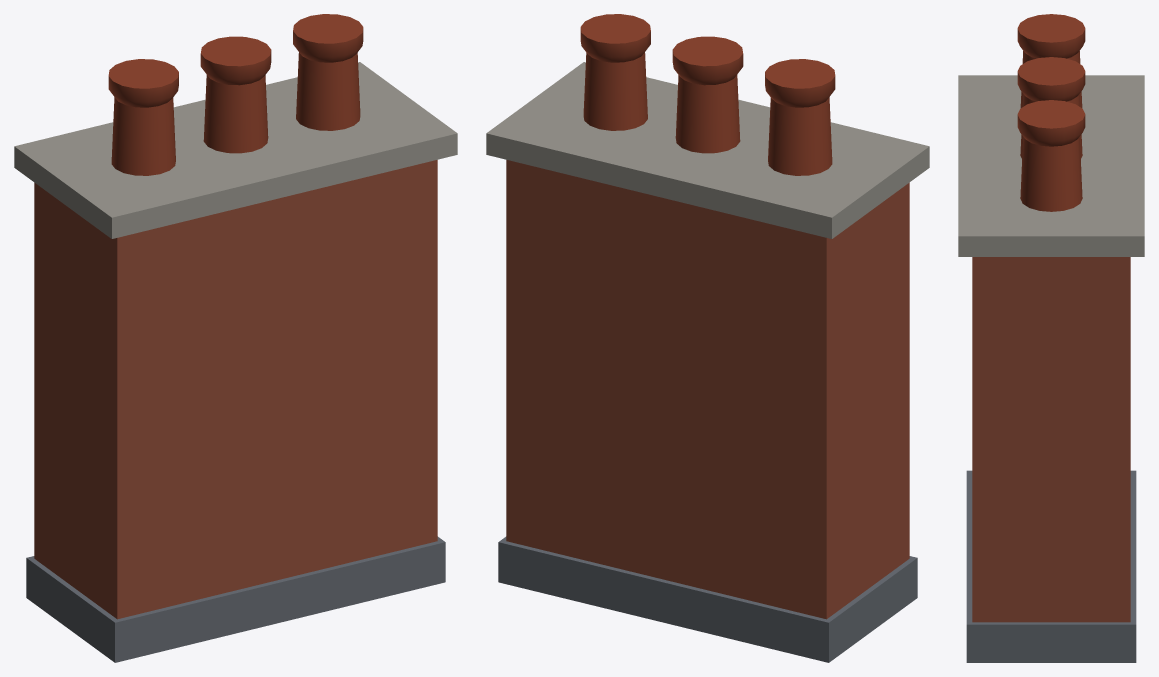
File: roof.chimney.triple.glb
The picture shows the model from 3 angles, left to right: view 1: azimuth 30°, elevation 25°; view 2: azimuth 150°, elevation 25°; view 3: azimuth 270°, elevation 25°; orthographic projection. The views are drawn at different scales.
Parts seen in each view (by area): view 1: main__brick, main__concrete, main__clay_tile, main__lead; view 2: main__brick, main__concrete, main__clay_tile, main__lead; view 3: main__brick, main__concrete, main__clay_tile, main__lead.
Boxes of the visible parts, x1,y1,x2,y2 form: main__brick: (34, 160, 437, 619); main__concrete: (14, 62, 457, 238); main__clay_tile: (108, 14, 363, 175); main__lead: (26, 536, 445, 662); main__brick: (506, 160, 909, 619); main__concrete: (486, 62, 929, 238); main__clay_tile: (580, 14, 835, 175); main__lead: (498, 536, 917, 662); main__brick: (972, 257, 1130, 622); main__concrete: (958, 75, 1144, 256); main__clay_tile: (1017, 14, 1085, 211); main__lead: (966, 470, 1136, 662).
Bounding box in the file's own units: 1.35 × 2.01 × 0.66.
